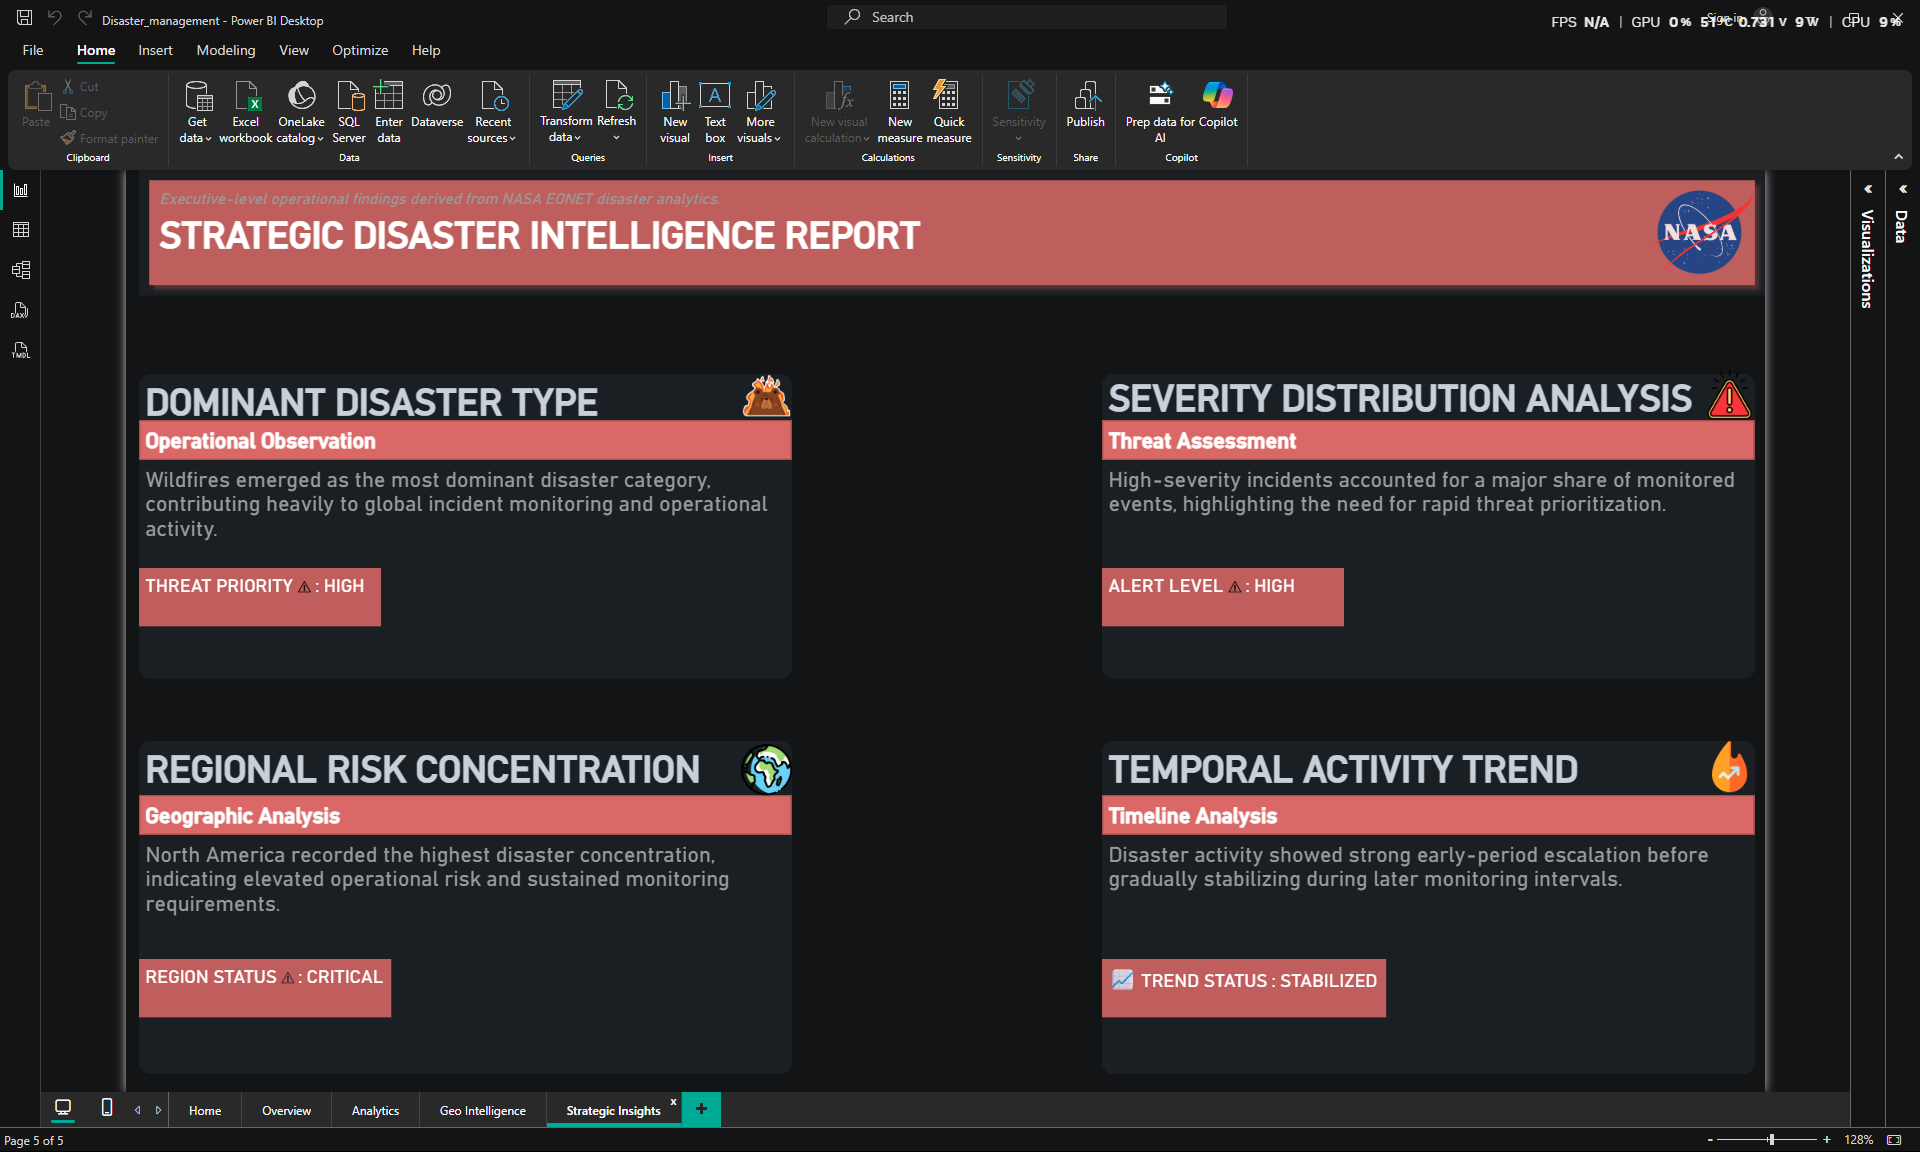

The dashboard page shown, as its layout file describes it:
{"tool":"powerbi","page":{"name":"Strategic Insights","canvas":[1280,720],"ordinal":4},"visuals":[{"type":"shape","box":[10.1,0,1269.9,97.9],"z":0},{"type":"textbox","box":[21.1,11,630.3,86.9],"z":1000},{"type":"shape","box":[10.1,159.5,509.6,237.9],"z":2000},{"type":"textbox","box":[10.1,159.5,377.2,43],"z":3000},{"type":"shape","box":[10.1,194.9,509.6,31.2],"z":4000},{"type":"textbox","box":[10.1,195.8,210.9,30.4],"z":5000},{"type":"textbox","box":[10.1,226.1,509.6,68.3],"z":6000},{"type":"image","box":[1191.4,8.4,80.2,80.2],"z":7000},{"type":"shape","box":[10.1,310.5,189,45.6],"z":8000},{"type":"textbox","box":[10.1,310.5,189,45.6],"z":9000},{"type":"shape","box":[10.1,445.5,509.6,259.9],"z":10000},{"type":"textbox","box":[10.1,445.5,445.5,48.1],"z":11000},{"type":"shape","box":[10.1,487.7,509.6,31.2],"z":12000},{"type":"textbox","box":[10.1,488.5,210.9,30.4],"z":13000},{"type":"textbox","box":[10.1,518.9,509.6,73.4],"z":14000},{"type":"shape","box":[10.1,616,197.4,45.6],"z":15000},{"type":"textbox","box":[10.1,616,197.4,45.6],"z":16000},{"type":"image","box":[480.1,448,39.7,39.7],"z":17000},{"type":"image","box":[480.1,156.1,39.7,39.7],"z":18000},{"type":"shape","box":[761.9,159.5,509.6,237.9],"z":19000},{"type":"shape","box":[761.9,194.9,509.6,31.2],"z":21000},{"type":"textbox","box":[761.9,195.8,210.9,30.4],"z":22000},{"type":"image","box":[1231.9,155.3,39.7,39.7],"z":23000},{"type":"textbox","box":[761.9,226.1,509.6,68.3],"z":24000},{"type":"shape","box":[761.9,310.5,189,45.6],"z":25000},{"type":"textbox","box":[761.9,310.5,189,45.6],"z":26000},{"type":"textbox","box":[761.9,156.1,476.7,43],"z":26001},{"type":"shape","box":[761.9,445.5,509.6,259.9],"z":26002},{"type":"textbox","box":[761.9,445.5,377.2,48.1],"z":26003},{"type":"shape","box":[761.9,487.7,509.6,31.2],"z":26004},{"type":"textbox","box":[761.9,488.5,210.9,30.4],"z":26005},{"type":"textbox","box":[761.9,518.9,509.6,73.4],"z":26006},{"type":"shape","box":[761.9,616,221.9,45.6],"z":26007},{"type":"textbox","box":[761.9,616,221.9,45.6],"z":26008},{"type":"image","box":[1231.9,445.5,39.7,39.7],"z":26009}]}

Visuals, with their boxes on the page's 1280x720 design canvas (x1, y1, x2, y2). These are canvas units, not pixel positions in the 1920x1152 screenshot, which may show the page scaled, cropped or inside an application window:
shape: 10,0,1280,98
textbox: 21,11,651,98
shape: 10,160,520,397
textbox: 10,160,387,202
shape: 10,195,520,226
textbox: 10,196,221,226
textbox: 10,226,520,294
image: 1191,8,1272,89
shape: 10,310,199,356
textbox: 10,310,199,356
shape: 10,446,520,705
textbox: 10,446,456,494
shape: 10,488,520,519
textbox: 10,488,221,519
textbox: 10,519,520,592
shape: 10,616,208,662
textbox: 10,616,208,662
image: 480,448,520,488
image: 480,156,520,196
shape: 762,160,1272,397
shape: 762,195,1272,226
textbox: 762,196,973,226
image: 1232,155,1272,195
textbox: 762,226,1272,294
shape: 762,310,951,356
textbox: 762,310,951,356
textbox: 762,156,1239,199
shape: 762,446,1272,705
textbox: 762,446,1139,494
shape: 762,488,1272,519
textbox: 762,488,973,519
textbox: 762,519,1272,592
shape: 762,616,984,662
textbox: 762,616,984,662
image: 1232,446,1272,485
